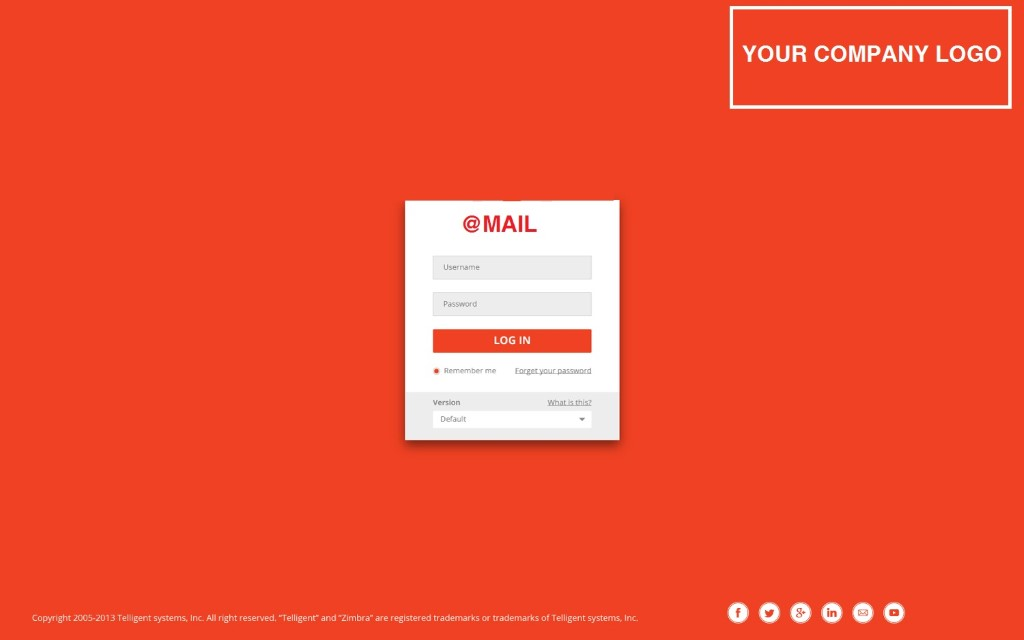button: (434, 330, 593, 352)
button_login: (434, 329, 592, 353)
label_Login: (491, 332, 535, 350)
label_Username: (442, 259, 482, 275)
label_password: (439, 298, 481, 311)
textbox: (432, 255, 592, 282), (434, 292, 590, 317)
textbox_Password: (433, 291, 590, 317)
textbox_username: (433, 256, 593, 284)
